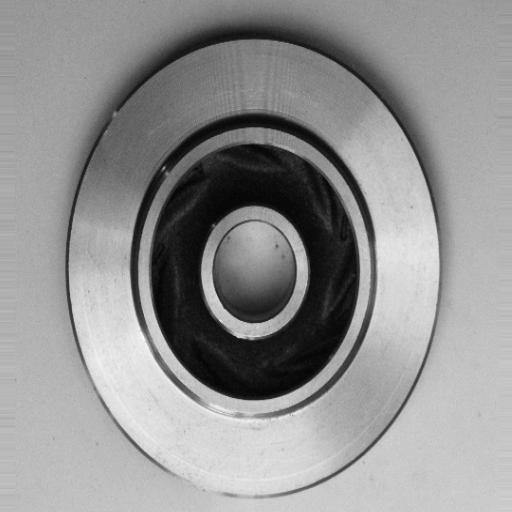scratch: (155, 455, 281, 512)
unpolished_casting: (57, 35, 444, 502)
